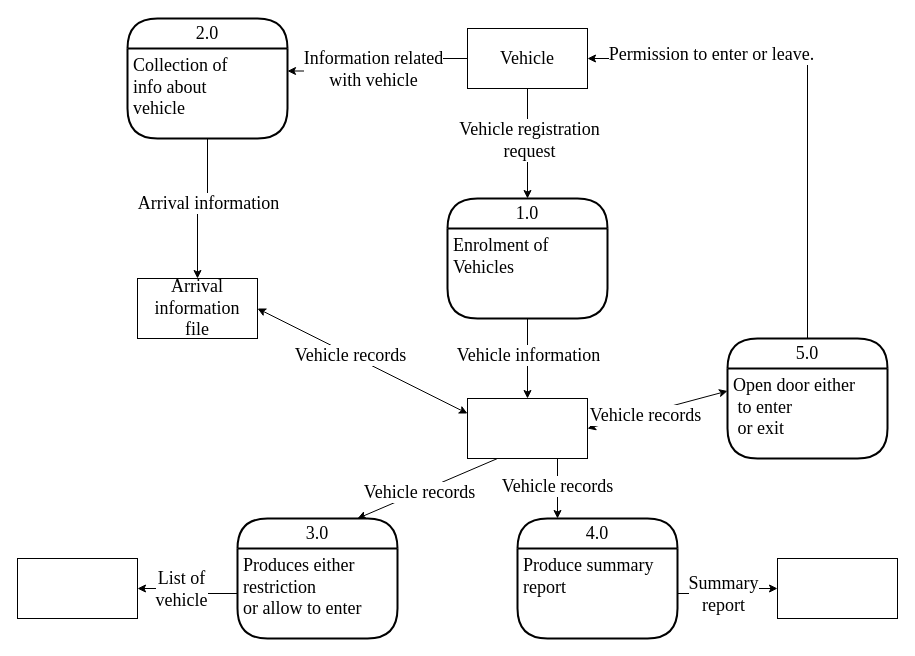
Image size: 915x656. Some labels were removed from this diagram. The shapes that lost their labels are listed below. From the top down, each one's centre as x and y in pixels, then its label:
the point at 527,428: Vehicle Record File
the point at 77,588: Computer
the point at 837,588: Database
